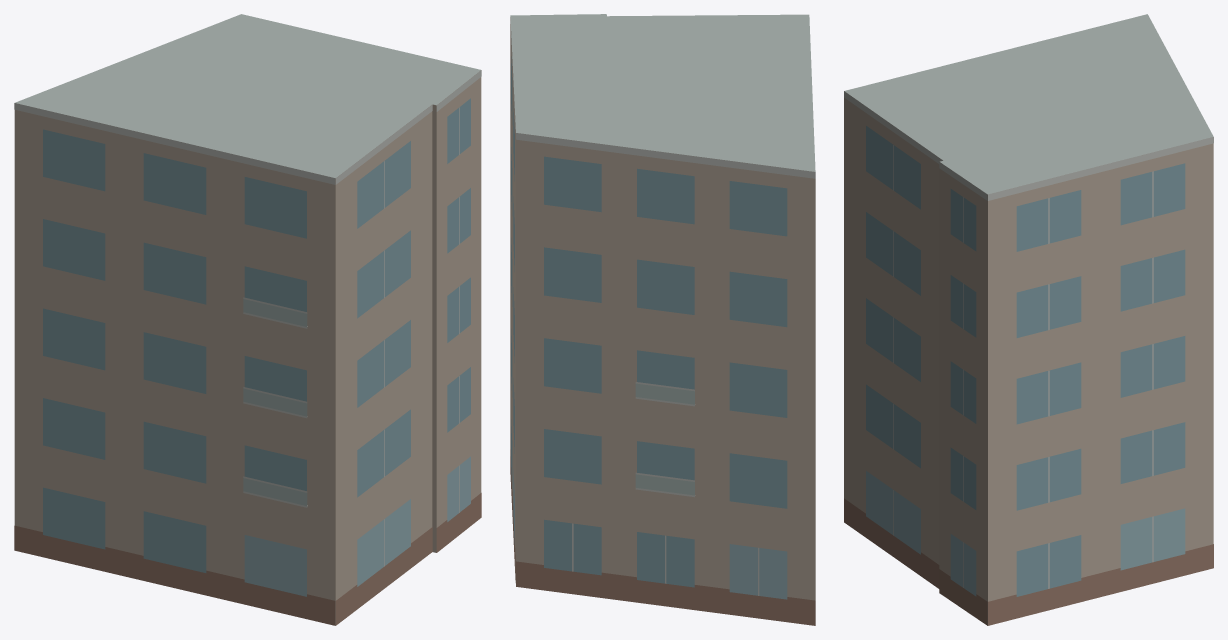
The model's file is survey-upis-32893743.glb.
3 views of the same model, side by side, from view 1: azimuth 30°, elevation 25°; view 2: azimuth 150°, elevation 25°; view 3: azimuth 270°, elevation 25° (orthographic). The views are drawn at different scales.
Parts seen in each view (by area): view 1: survey-upis-32893743.tmp; view 2: survey-upis-32893743.tmp; view 3: survey-upis-32893743.tmp.
Part boxes in pixels (x1,y1,x2,y2): survey-upis-32893743.tmp: [14, 14, 481, 625]; survey-upis-32893743.tmp: [510, 14, 815, 625]; survey-upis-32893743.tmp: [844, 14, 1213, 625].
Size of the model in its own units: 14.46 by 16.1 by 12.52.
